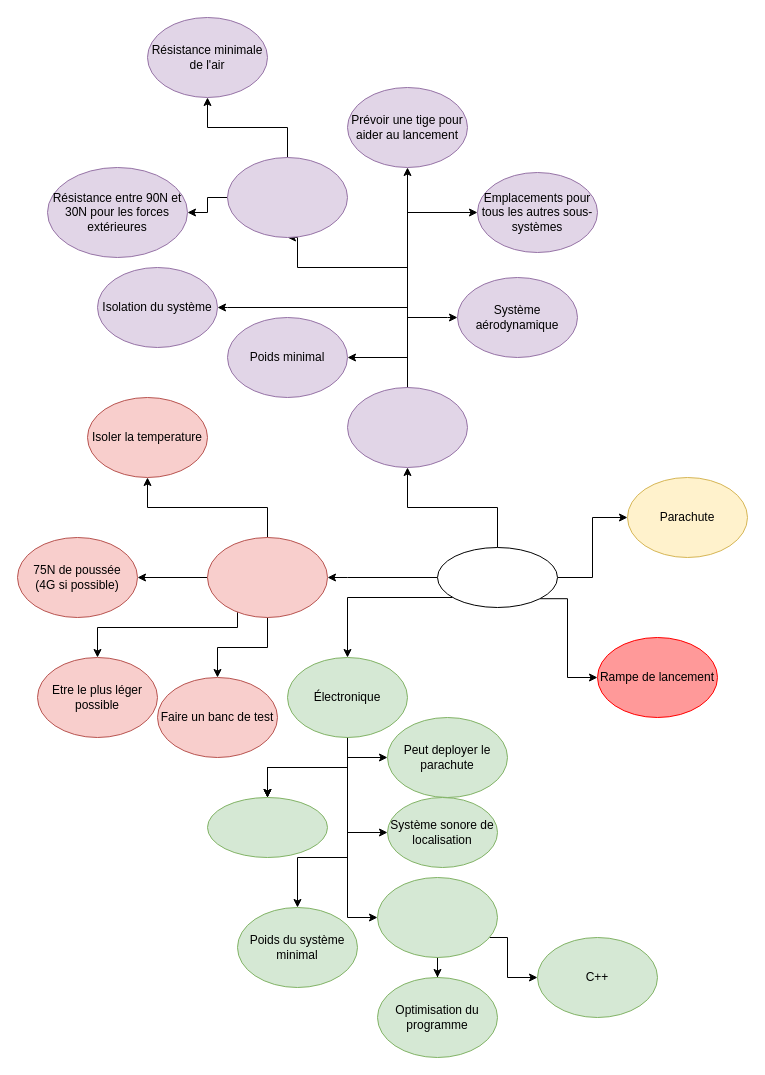
The diagram is 765 pixels wide and 1075 high, and some of its shapes have lost their labels. Each missing label, with the centre of its shape:
"Autonomie > temps de vol" goes at (267,827).
"Fuselage" goes at (407,427).
"Fusée" goes at (497,577).
"Moteur" goes at (267,577).
"Programme de synthèse des données" goes at (437,917).
"Résistances" goes at (287,197).
